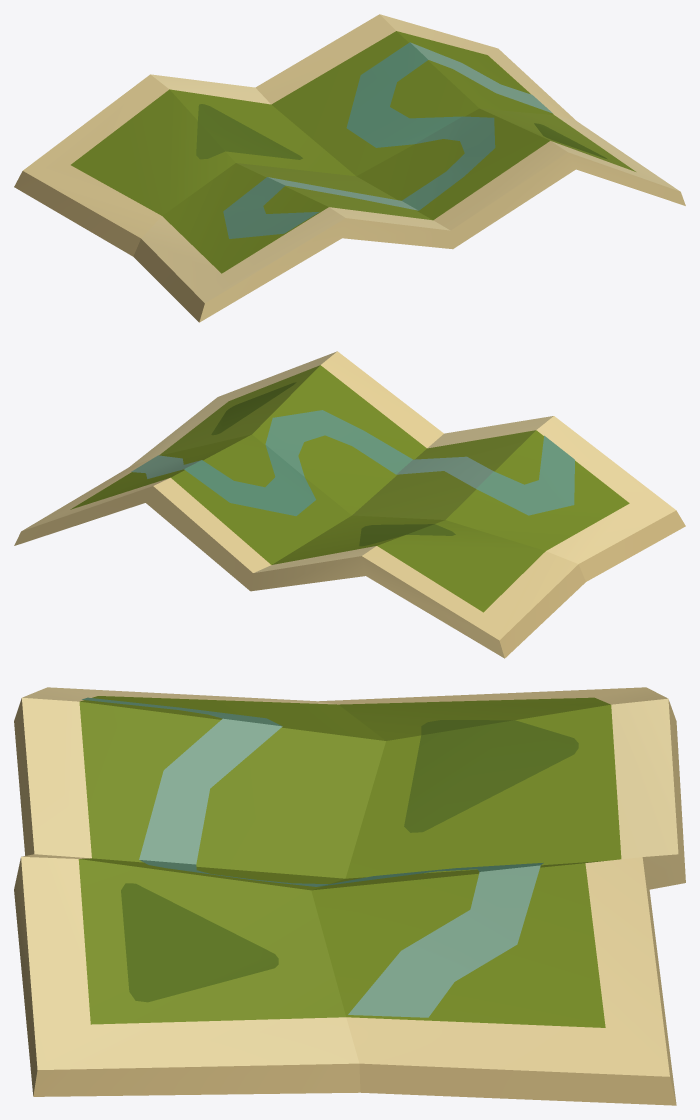
The model's file is SM_Map.fbx.
3 renders of one model, top to bottom at view 1: azimuth 30°, elevation 25°; view 2: azimuth 150°, elevation 25°; view 3: azimuth 270°, elevation 25°, orthographic. The views are drawn at different scales.
Visible parts, largest first — view 1: SM_Map; view 2: SM_Map; view 3: SM_Map.
Boxes of the visible parts, x1,y1,x2,y2 form: SM_Map: (14,14,685,322); SM_Map: (14,351,685,658); SM_Map: (14,687,685,1105).
Bounding box in the file's own units: 46.44 × 7.74 × 33.12.
